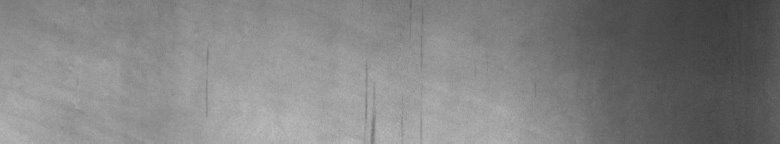ka: (365, 68, 422, 136)
